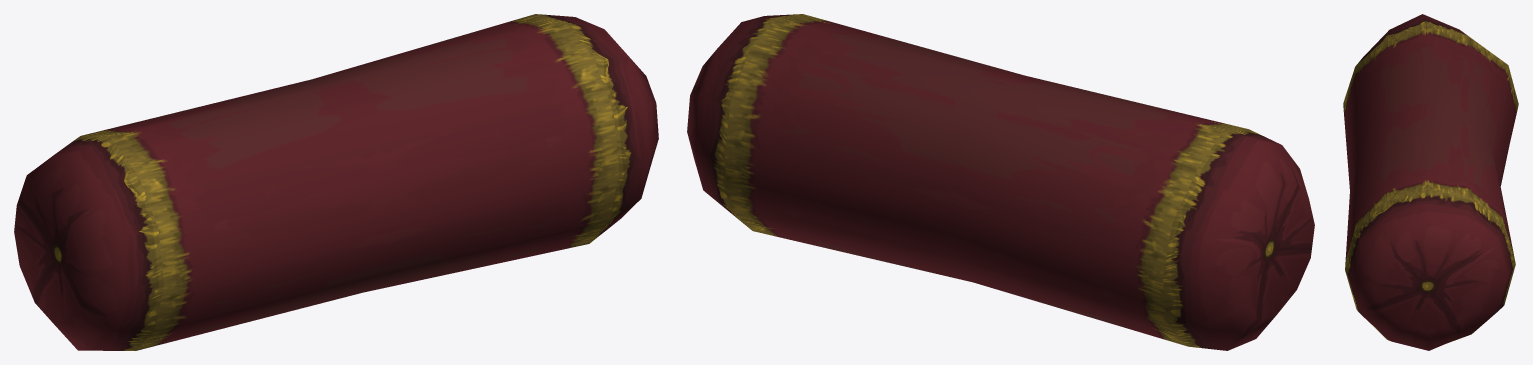
Rendered from SM_PROP_pillow_interior_03.fbx.
3 views of the same model, side by side, from view 1: azimuth 30°, elevation 25°; view 2: azimuth 150°, elevation 25°; view 3: azimuth 270°, elevation 25° (orthographic). The views are drawn at different scales.
Parts seen in each view (by area): view 1: SM_PROP_pillow_interior_03; view 2: SM_PROP_pillow_interior_03; view 3: SM_PROP_pillow_interior_03.
Part boxes in pixels (left/top/right/bottom): SM_PROP_pillow_interior_03: left=14, top=14, right=658, bottom=350; SM_PROP_pillow_interior_03: left=687, top=14, right=1314, bottom=350; SM_PROP_pillow_interior_03: left=1343, top=14, right=1518, bottom=350.
Size of the model in its own units: 83.14 by 29.49 by 28.98.
